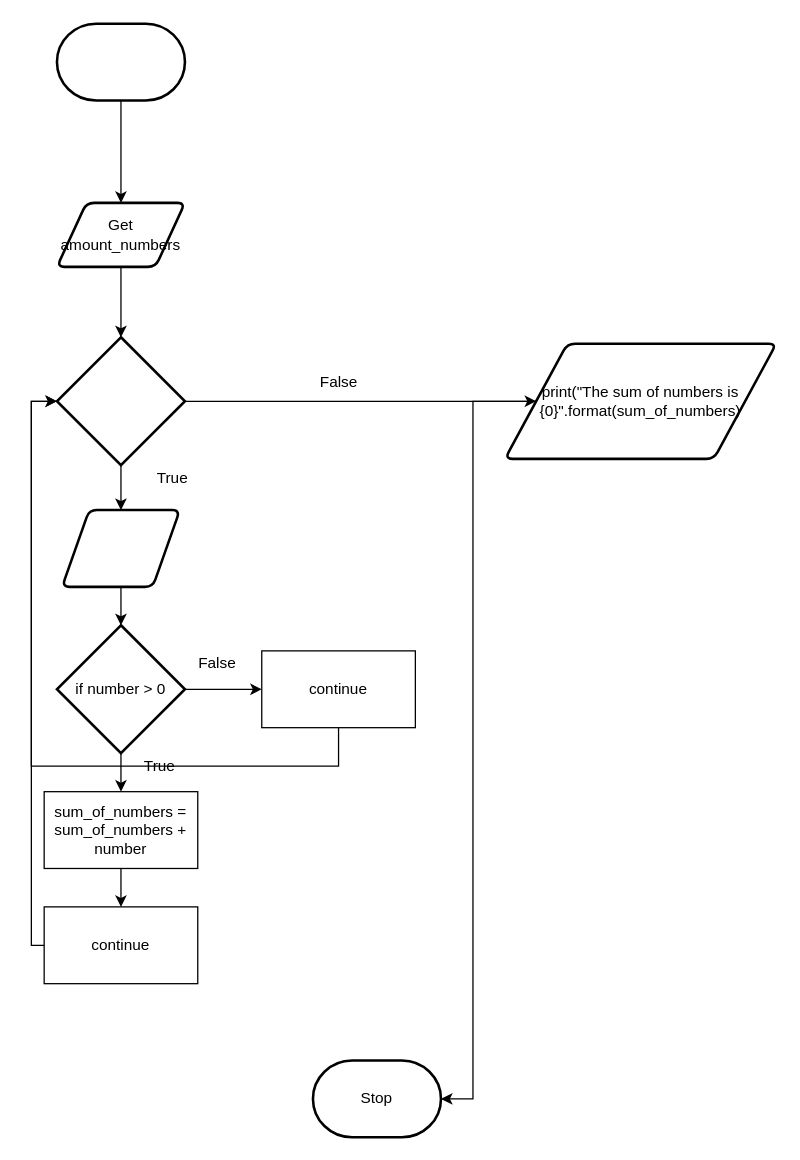
The diagram is 800 pixels wide and 1160 high, and some of its shapes have lost their labels. The shapes that lost their labels are listed below. From the top down, each one's centre as x and y in pixels, then its label:
the point at 120,61: Start
the point at 120,400: For counter in range(amount_numbers)
the point at 120,548: Get a number
